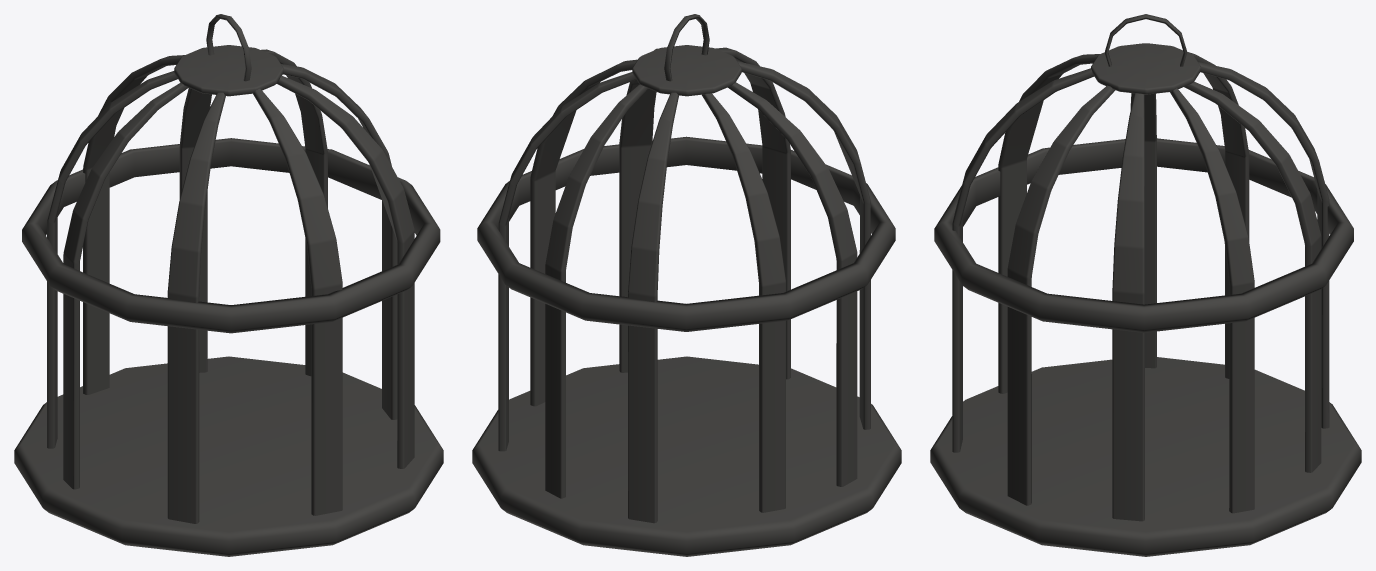
Rendered from Jaula.fbx.
3 views of the same model, side by side, from view 1: azimuth 30°, elevation 25°; view 2: azimuth 150°, elevation 25°; view 3: azimuth 270°, elevation 25° (orthographic).
Visible parts, largest first — view 1: Jaula; view 2: Jaula; view 3: Jaula.
Boxes of the visible parts, bbox=[...] form: Jaula: bbox=[14, 14, 443, 556]; Jaula: bbox=[472, 14, 901, 556]; Jaula: bbox=[930, 14, 1361, 556].
Size of the model in its own units: 164 by 191 by 164.
1 material, 1 textured.
